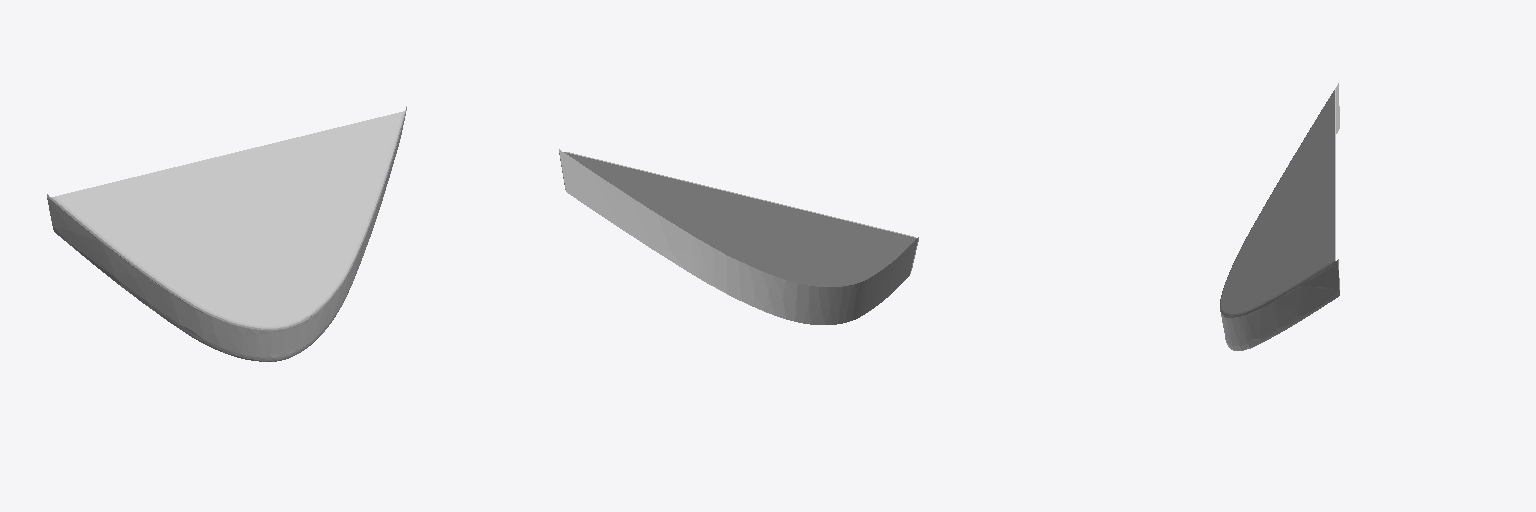
The model's file is Display_panel_optimized.obj.
3 views of the same model, side by side, from view 1: azimuth 30°, elevation 25°; view 2: azimuth 150°, elevation 25°; view 3: azimuth 270°, elevation 25° (orthographic).
Visible parts, largest first — view 1: Body335; view 2: Body335; view 3: Body335.
Part boxes in pixels (x1,y1,x2,y2): Body335: (47, 106, 406, 361); Body335: (559, 149, 918, 324); Body335: (1220, 83, 1339, 350).
Bounding box in the file's own units: 417 × 188 × 121.